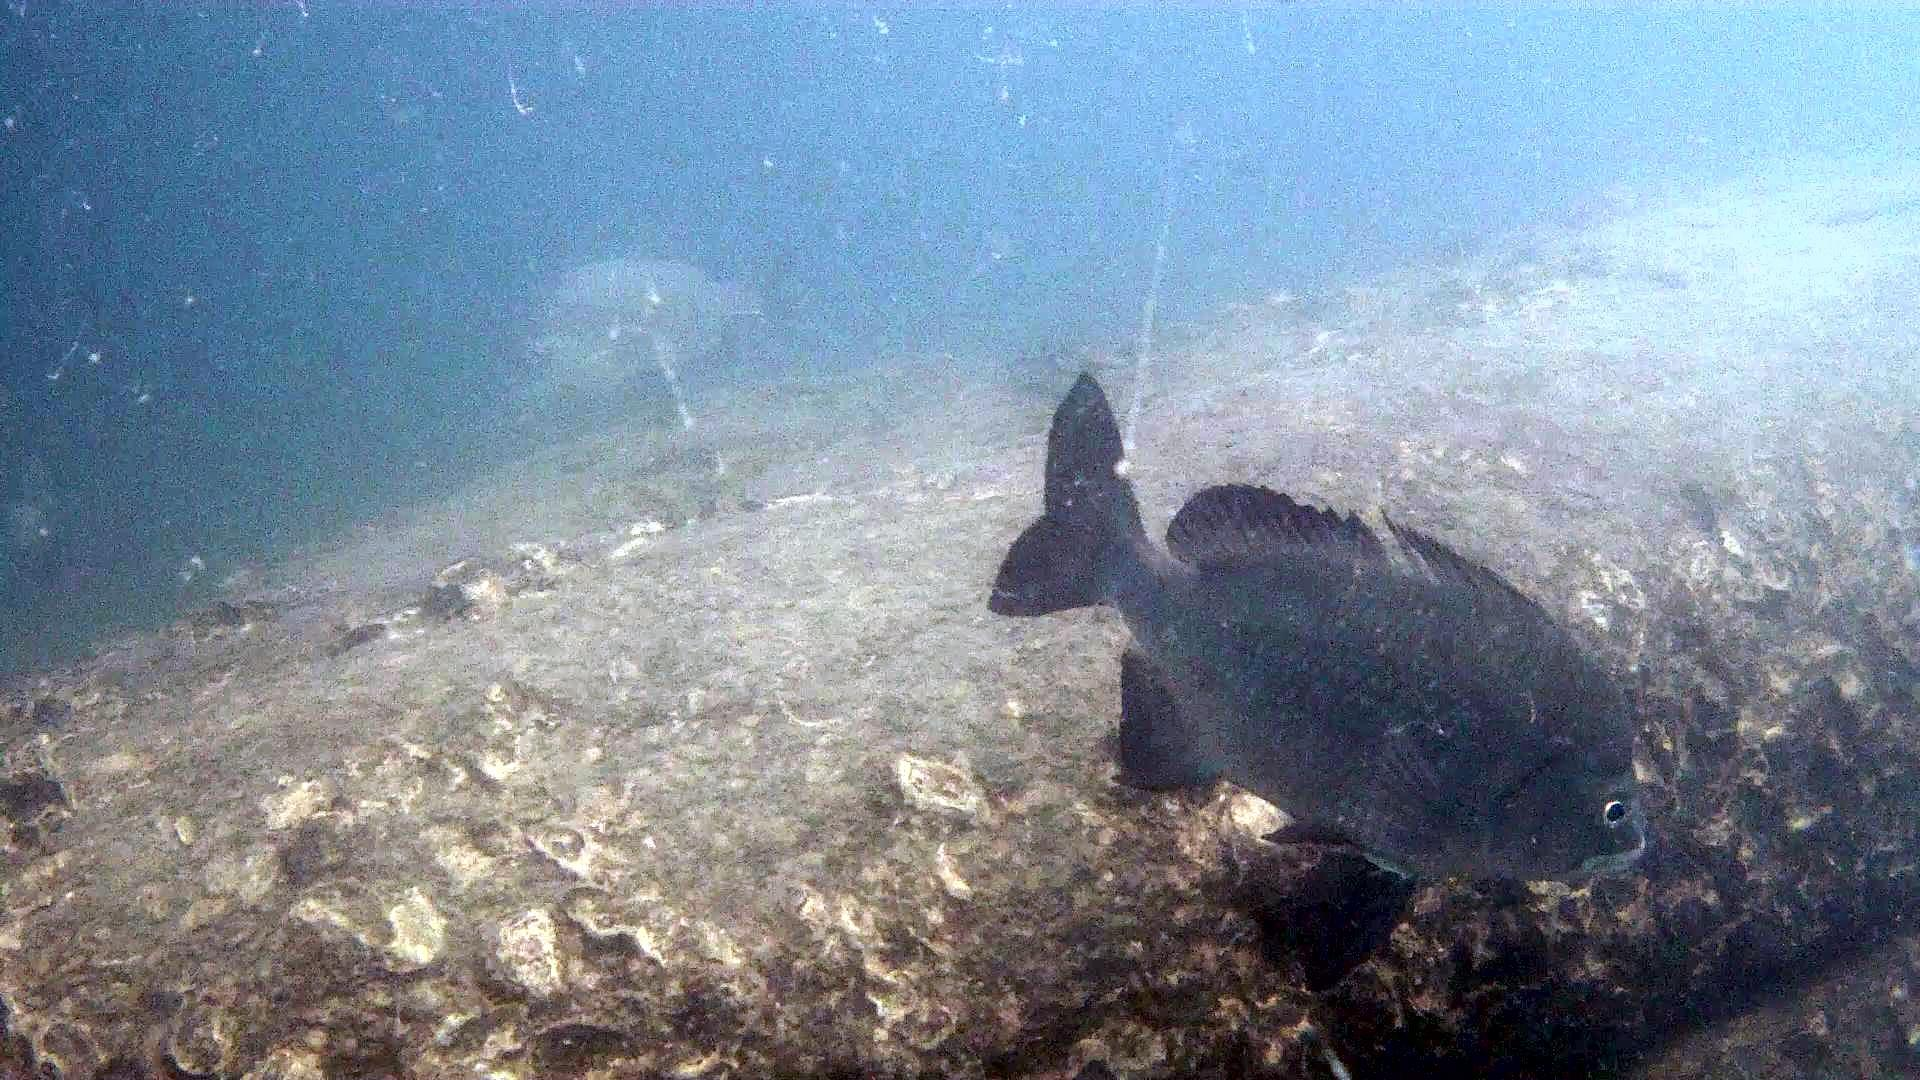acanthopagrus palmaris: (971, 363, 1665, 1015)
